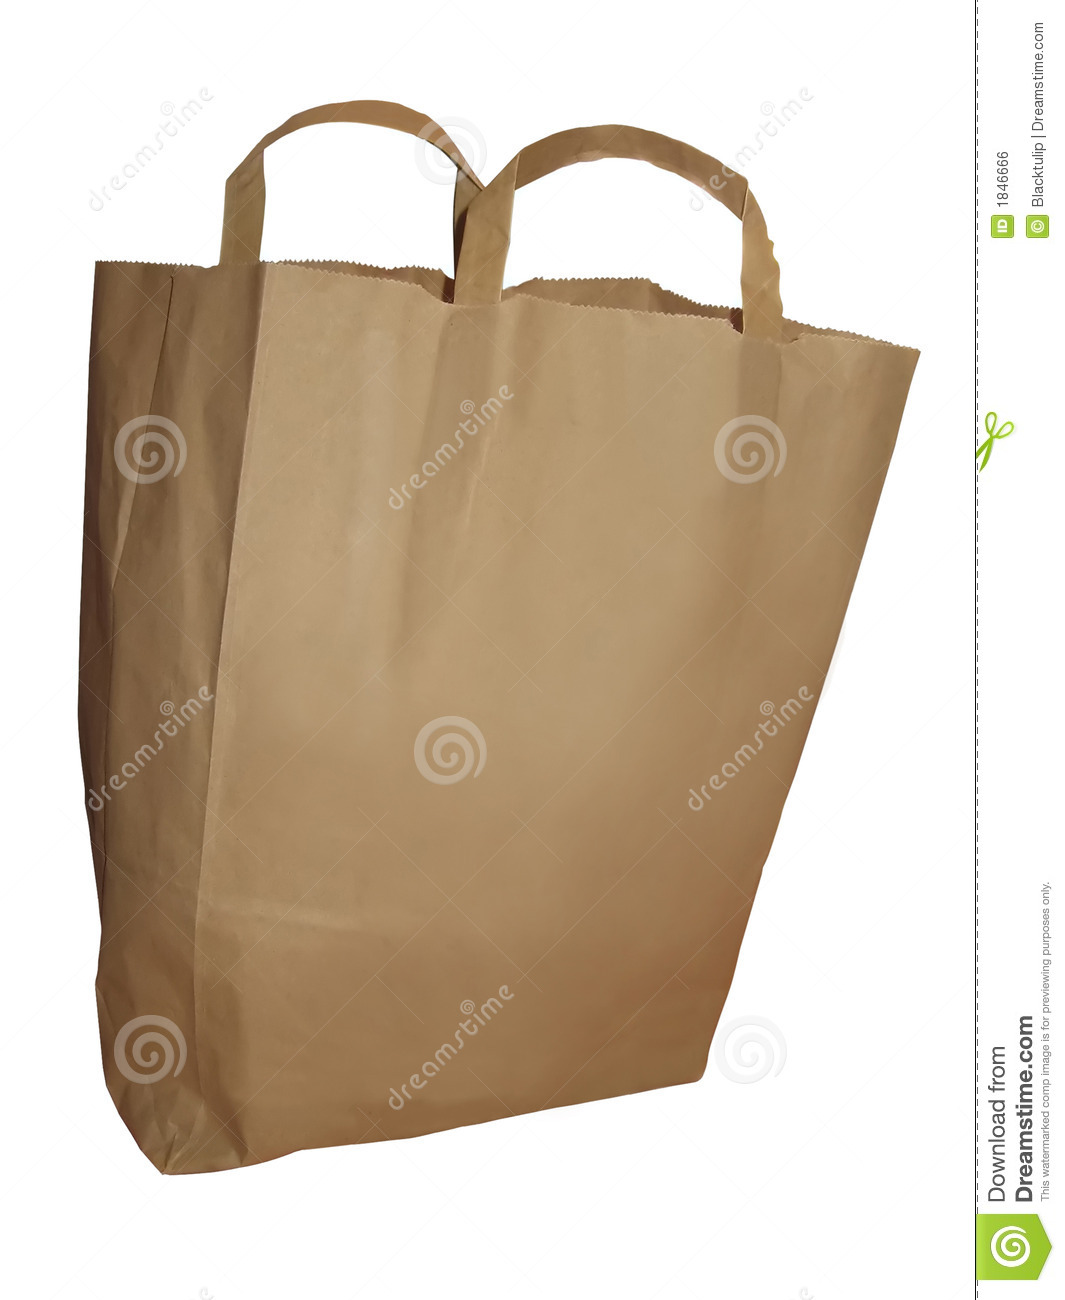flexible: (75, 107, 920, 1184)
